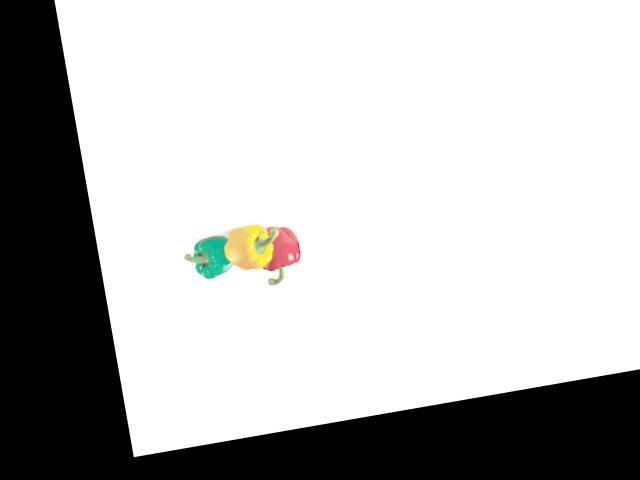bell_pepper: (182, 228, 240, 285)
